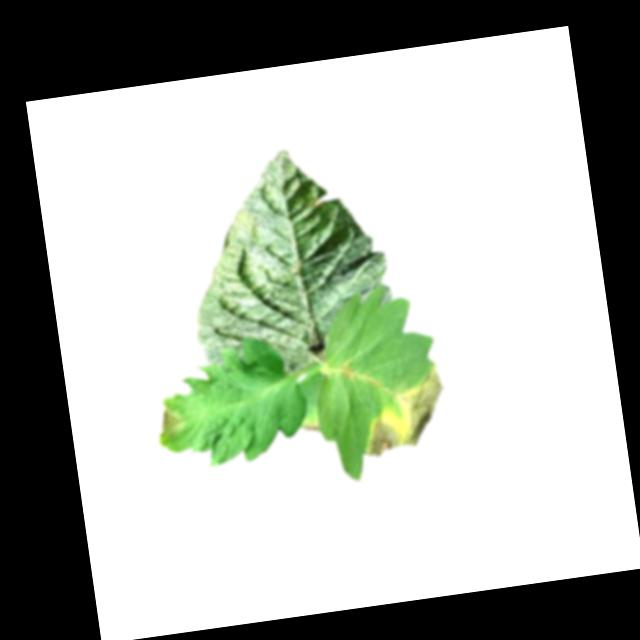Late_blight: (354, 361, 452, 459), (156, 399, 186, 439), (302, 421, 323, 433)
healthy: (171, 135, 401, 384)
